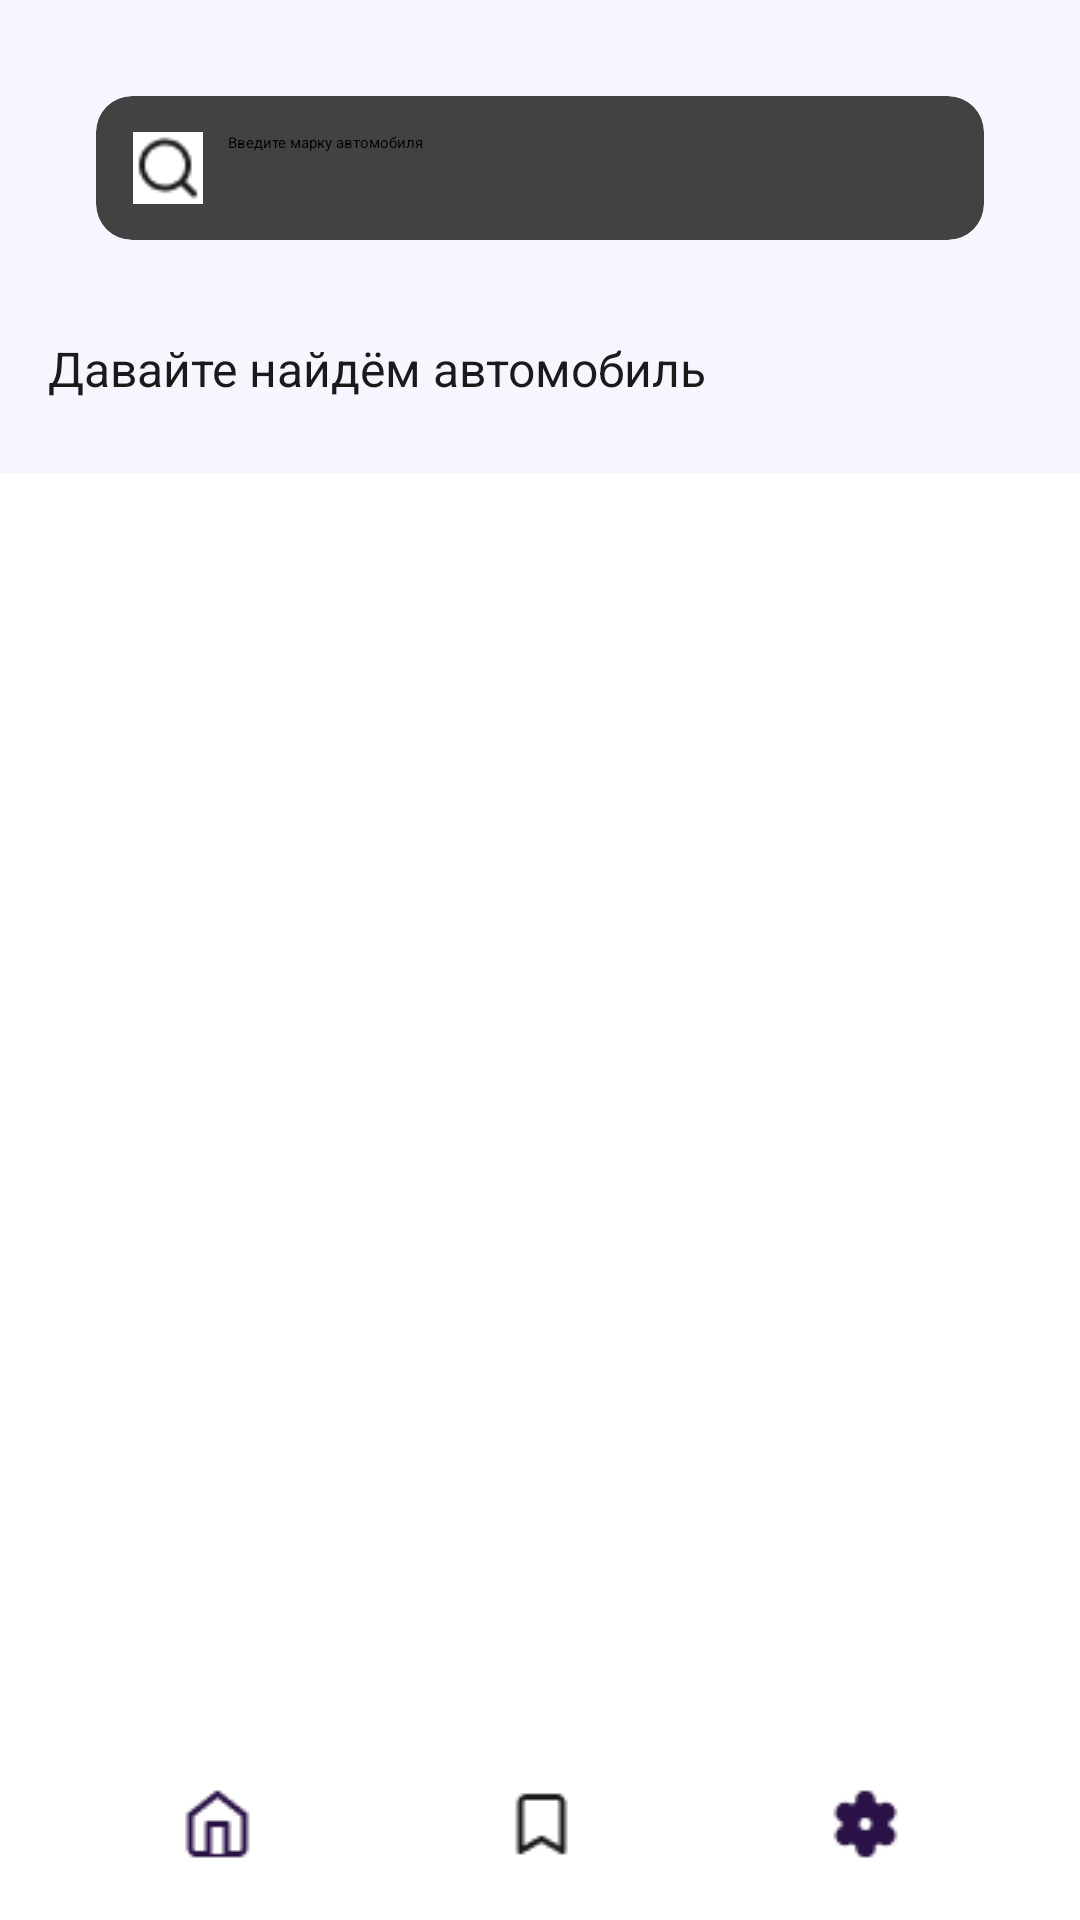

Named icons in this screenshot (1080 x 1920) and their centers, point (x, y):
Домой: point (217, 1824)
Избранное: point (541, 1824)
Настройки: point (865, 1824)
